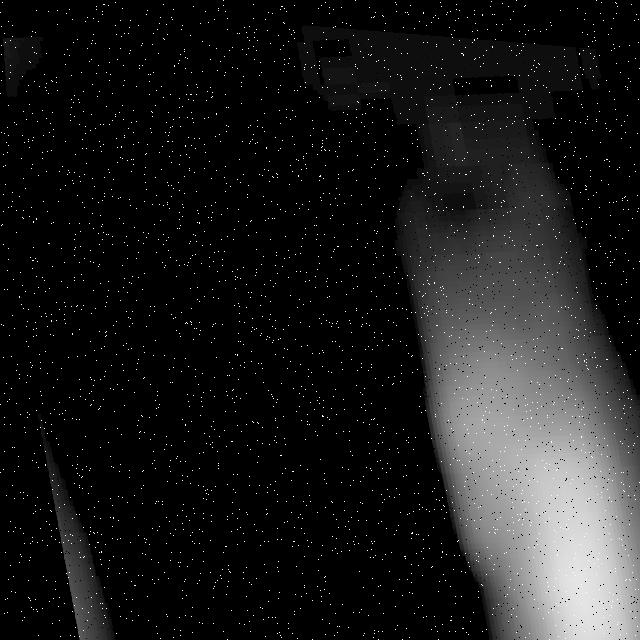person: (395, 258, 640, 640)
